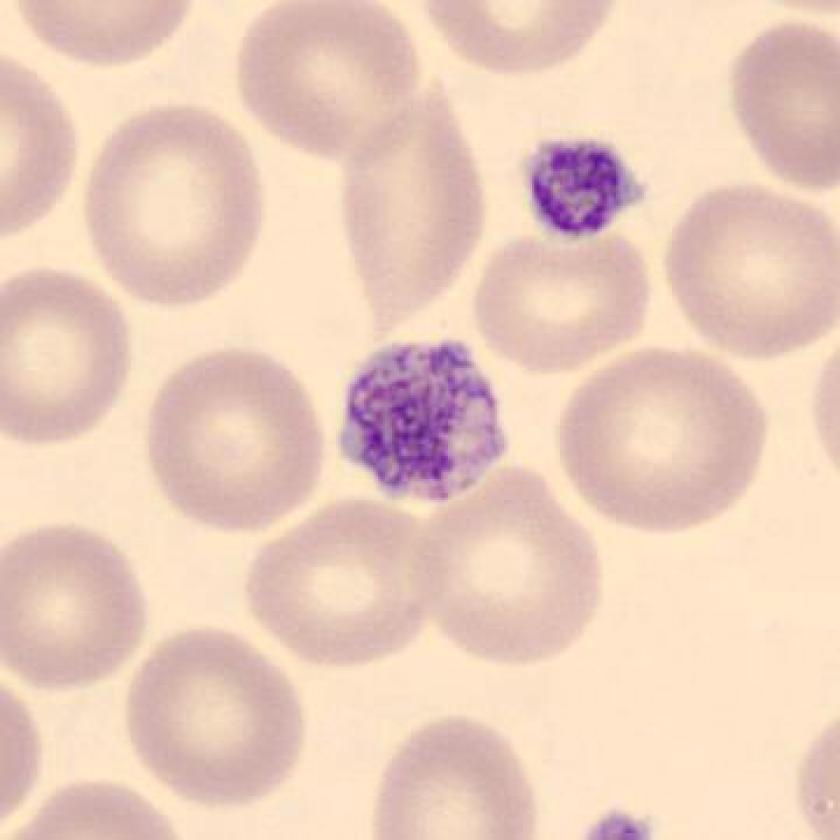platelets: (326, 323, 529, 515), (507, 126, 659, 251)
